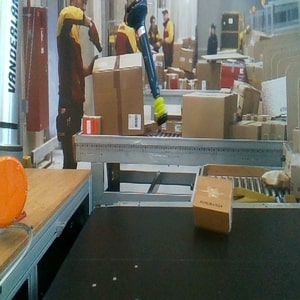box: (192, 175, 234, 234)
